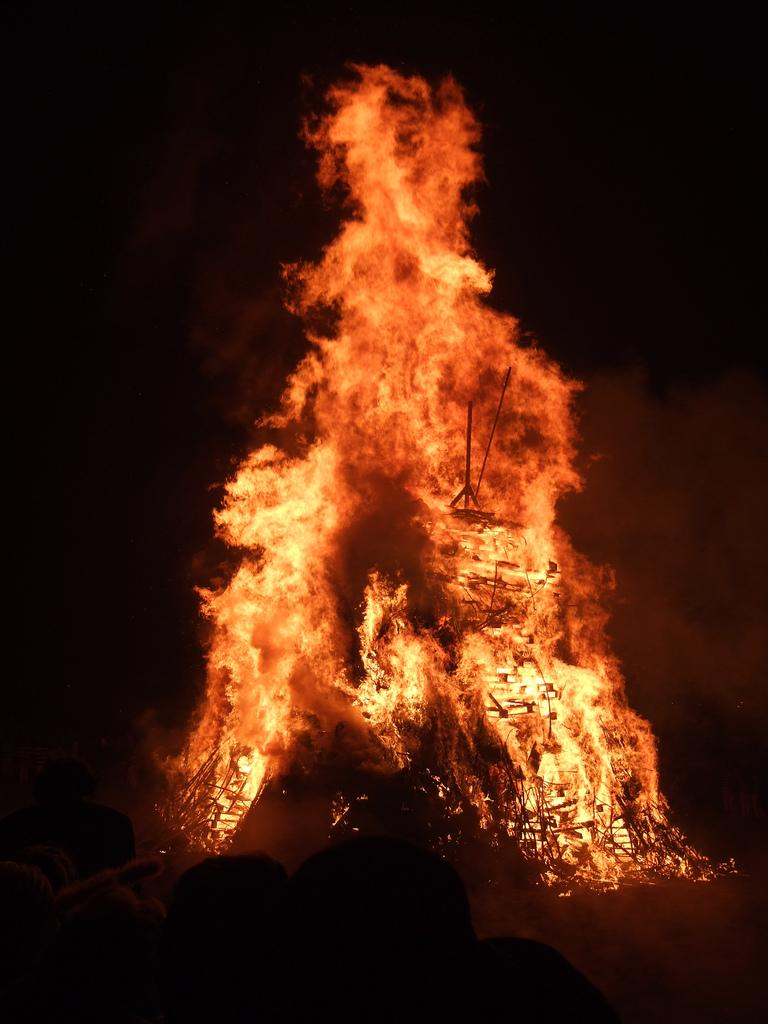fire: (488, 640, 642, 845), (340, 250, 480, 415), (210, 578, 325, 762), (345, 88, 470, 248), (438, 512, 558, 630), (225, 452, 348, 555)
